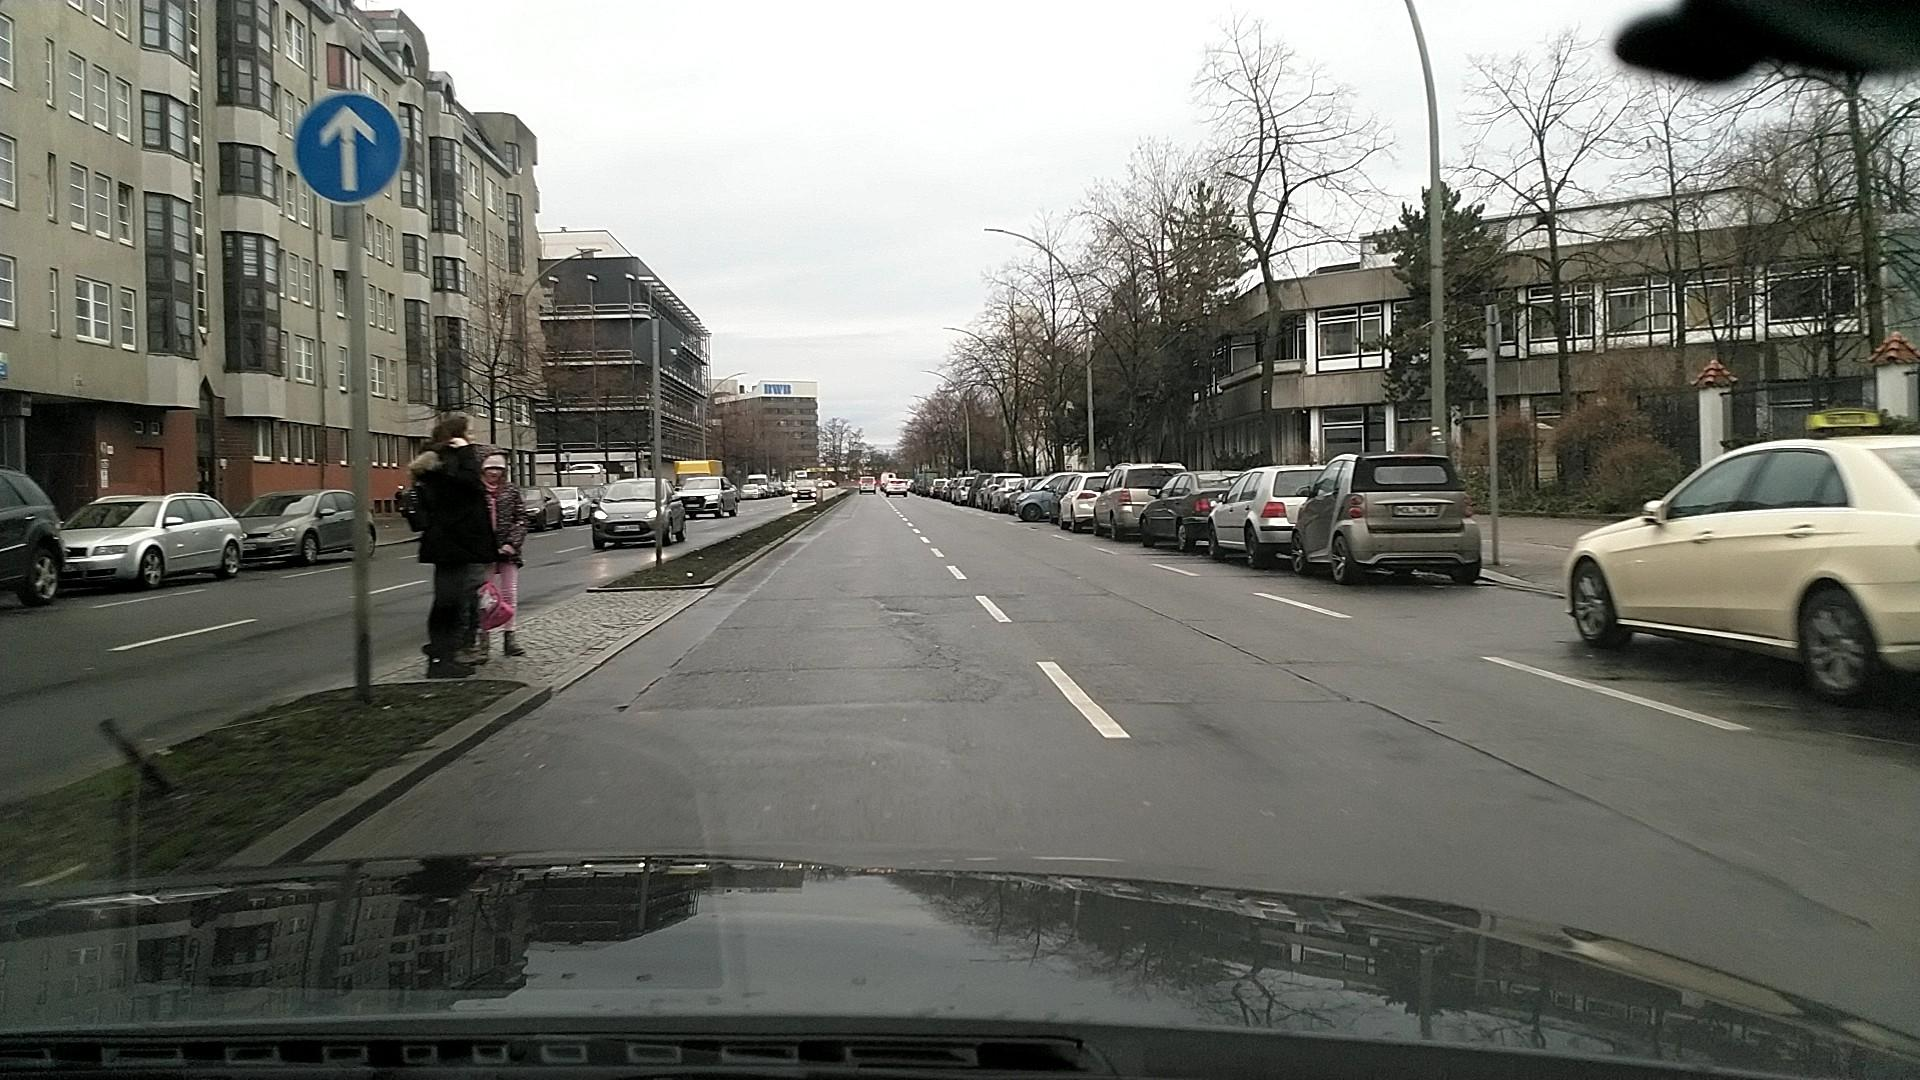Human face: (480, 455, 505, 485), (456, 416, 476, 446)
Vehicle registration plate: (1392, 505, 1438, 517), (614, 523, 640, 532)
